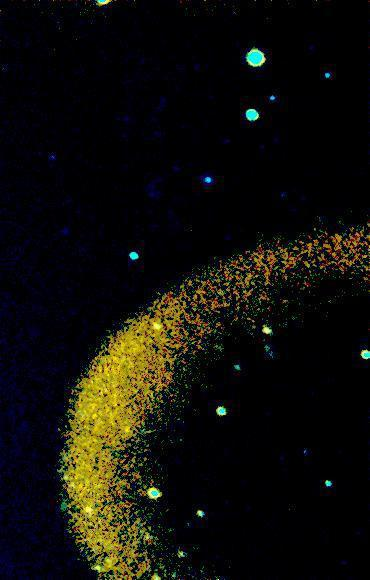star: (111, 413, 141, 443)
